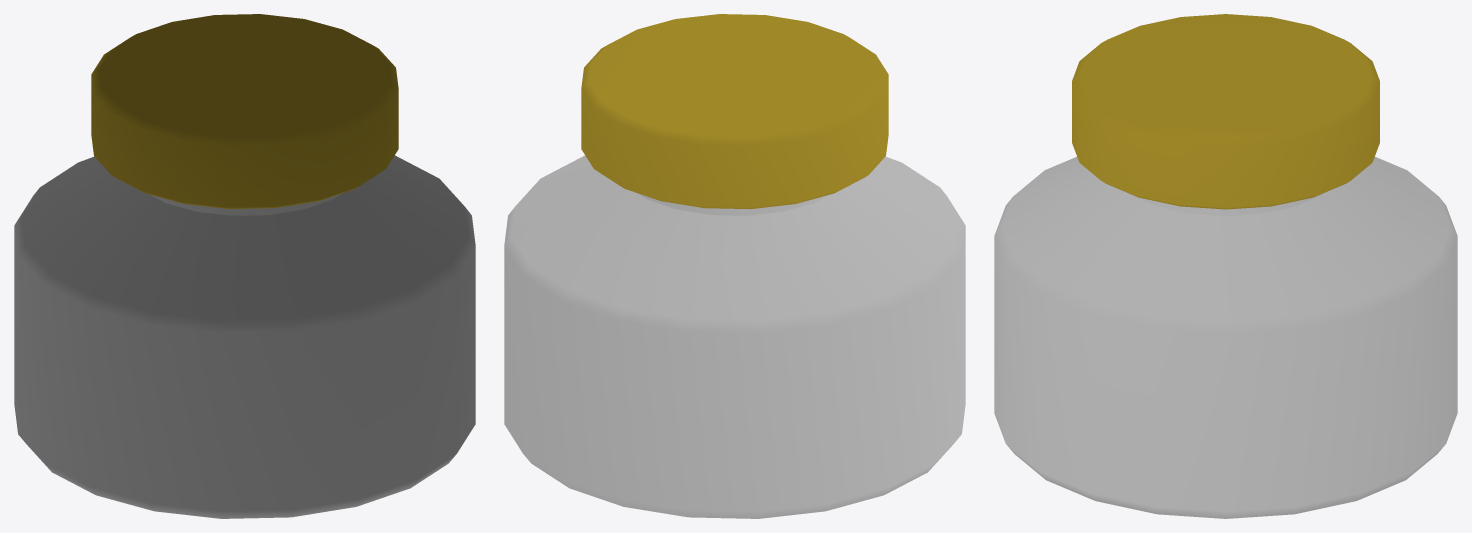
File: SugarJar_85565bb7.obj
3 views of the same model, side by side, from view 1: azimuth 30°, elevation 25°; view 2: azimuth 150°, elevation 25°; view 3: azimuth 270°, elevation 25° (orthographic).
Parts seen in each view (by area): view 1: SugarJar_85565bb7; view 2: SugarJar_85565bb7; view 3: SugarJar_85565bb7.
Boxes of the visible parts, x1=… form: SugarJar_85565bb7: x1=14, y1=14, x2=475, y2=518; SugarJar_85565bb7: x1=504, y1=14, x2=965, y2=518; SugarJar_85565bb7: x1=994, y1=14, x2=1457, y2=518.
Bounding box in the file's own units: 0.1051 × 0.0874 × 0.1051.
